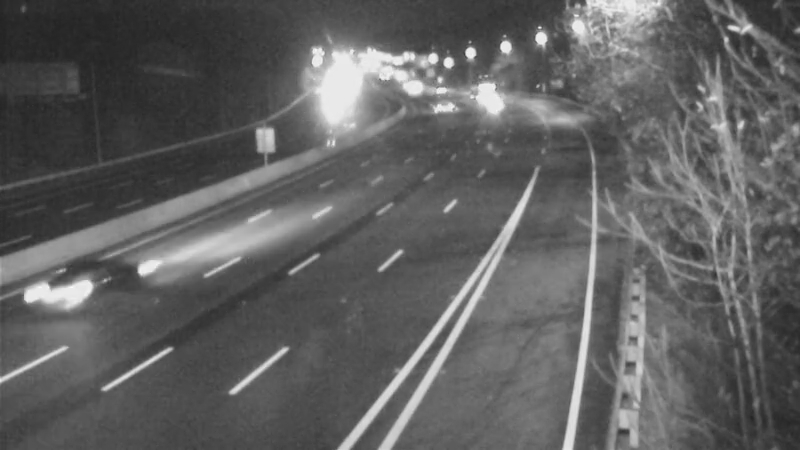vehicle: (9, 250, 89, 330), (417, 65, 467, 115), (458, 63, 508, 113), (469, 75, 519, 125), (413, 73, 463, 123)
